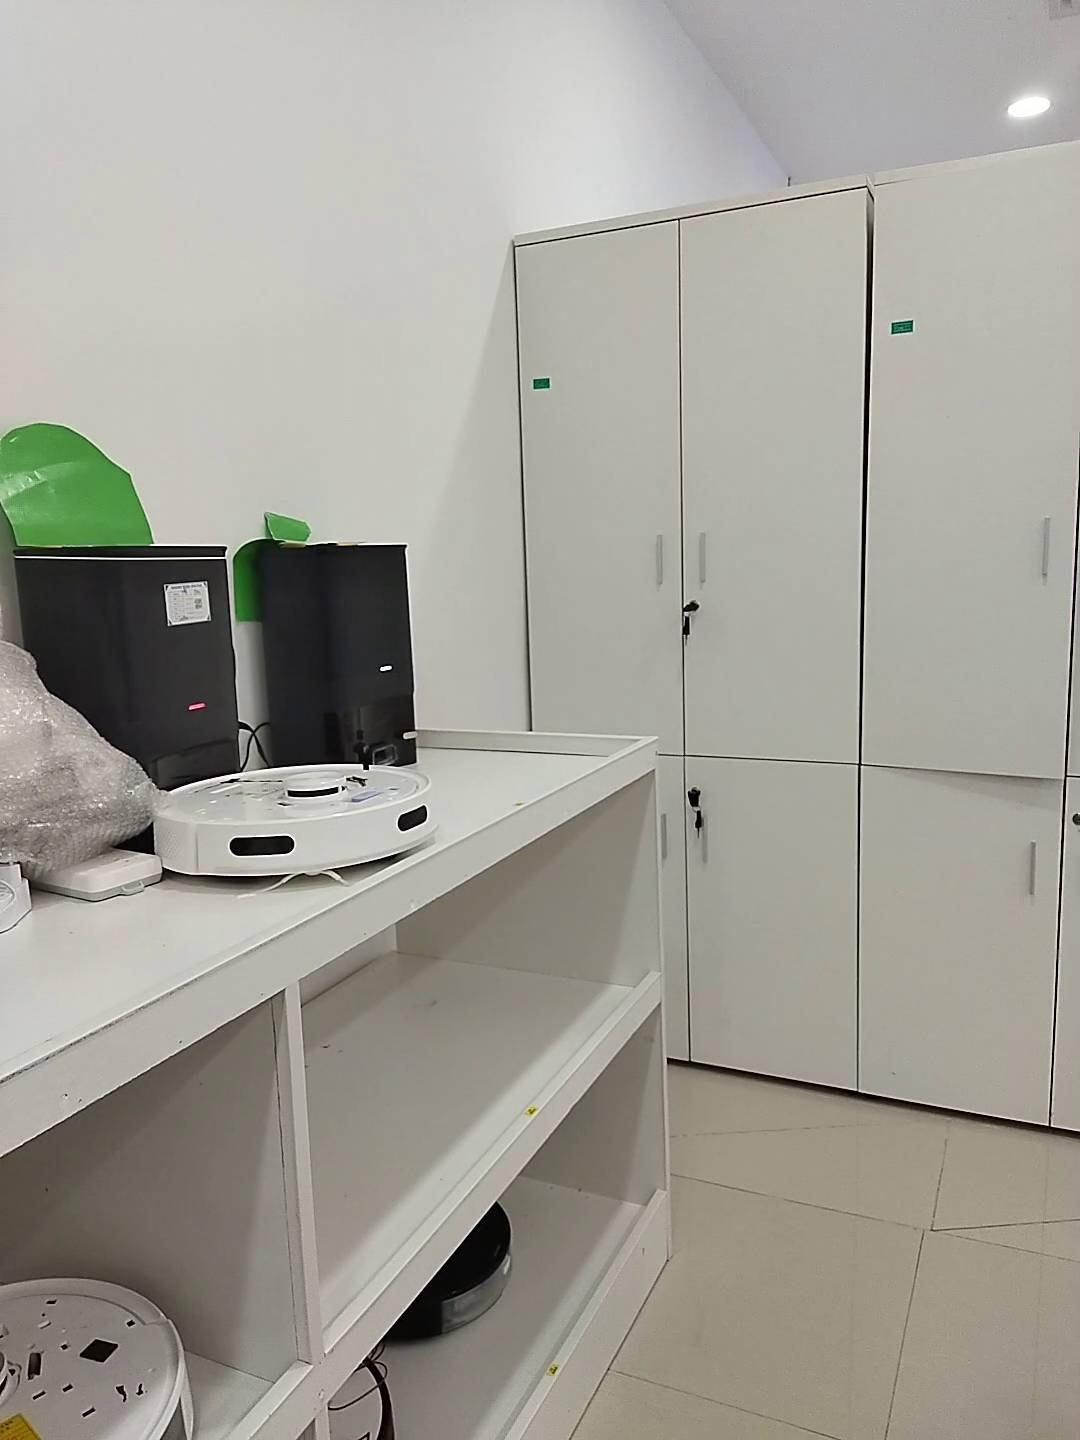dust collecting barrel: (14, 544, 242, 789), (258, 540, 421, 774)
